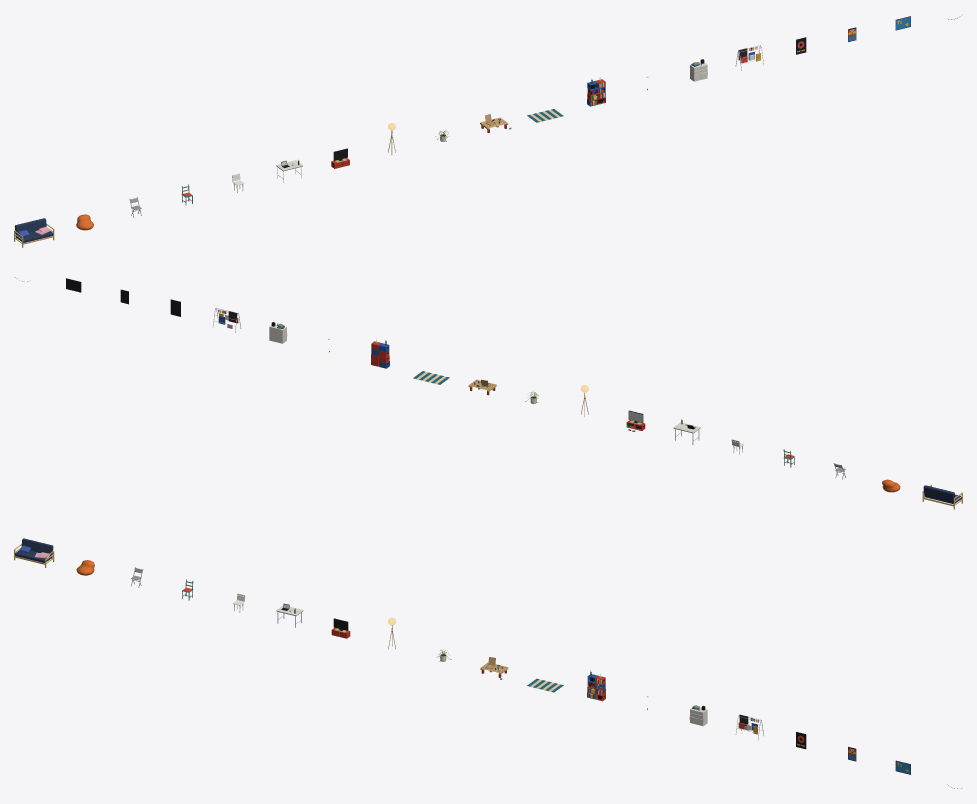
The model's file is Student.glb.
3 views of the same model, one above another, from view 1: azimuth 30°, elevation 25°; view 2: azimuth 150°, elevation 25°; view 3: azimuth 330°, elevation 25° (orthographic).
Visible parts, largest first — view 1: Sofa; view 2: Sofa; view 3: Sofa.
Boxes of the visible parts, x1=… form: Sofa: x1=14, y1=218, x2=54, y2=247; Sofa: x1=922, y1=485, x2=962, y2=509; Sofa: x1=14, y1=538, x2=54, y2=567.
Bounding box in the file's own units: 277 × 9.5 × 5.14.
